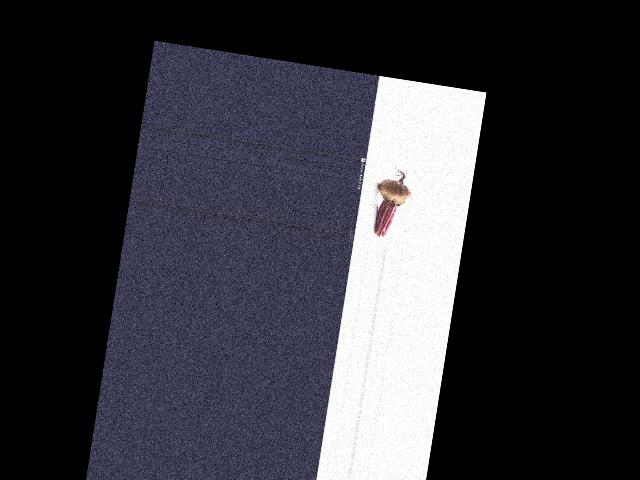beet: (371, 163, 415, 240)
